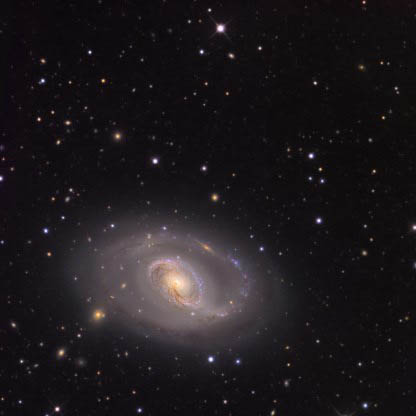Messier 96: (54, 205, 303, 355)
